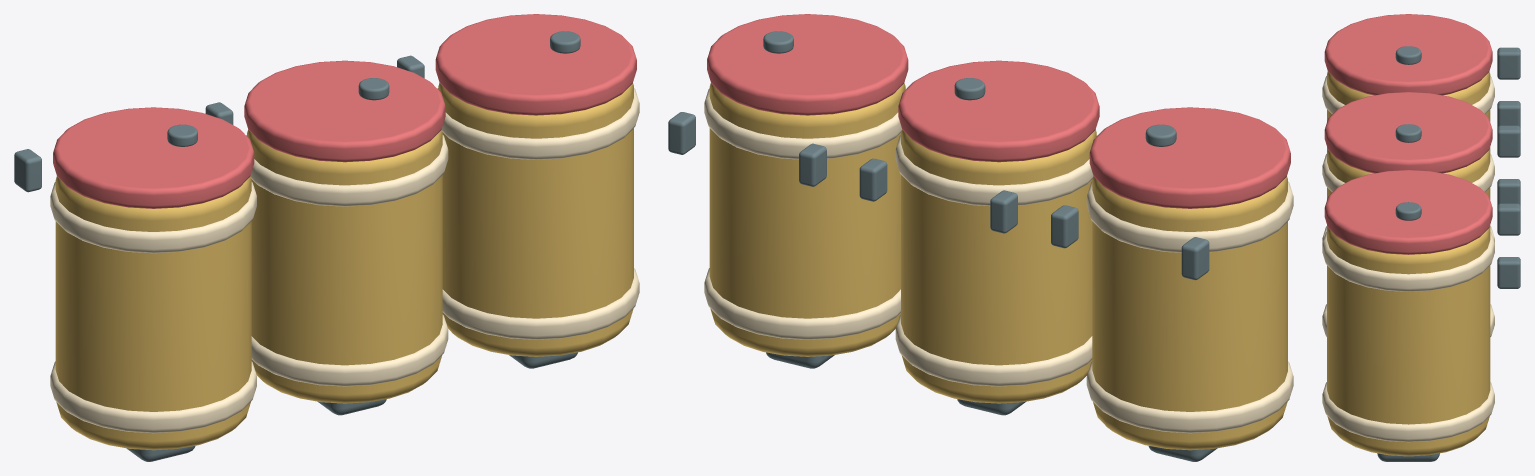
The model's file is broto_hoppers_barrel.glb.
3 renders of one model, left to right at view 1: azimuth 30°, elevation 25°; view 2: azimuth 150°, elevation 25°; view 3: azimuth 270°, elevation 25°, orthographic. The views are drawn at different scales.
Visible parts, largest first — view 1: Hoppers, CraftDetails; view 2: Hoppers, CraftDetails; view 3: Hoppers, CraftDetails.
Part boxes in pixels (x1=…): Hoppers: x1=50, y1=14, x2=639, y2=450; CraftDetails: x1=14, y1=31, x2=580, y2=461; Hoppers: x1=704, y1=14, x2=1293, y2=450; CraftDetails: x1=668, y1=31, x2=1217, y2=461; Hoppers: x1=1322, y1=14, x2=1494, y2=456; CraftDetails: x1=1377, y1=46, x2=1520, y2=461.
Size of the model in its own units: 2.32 by 1.22 by 0.85.
